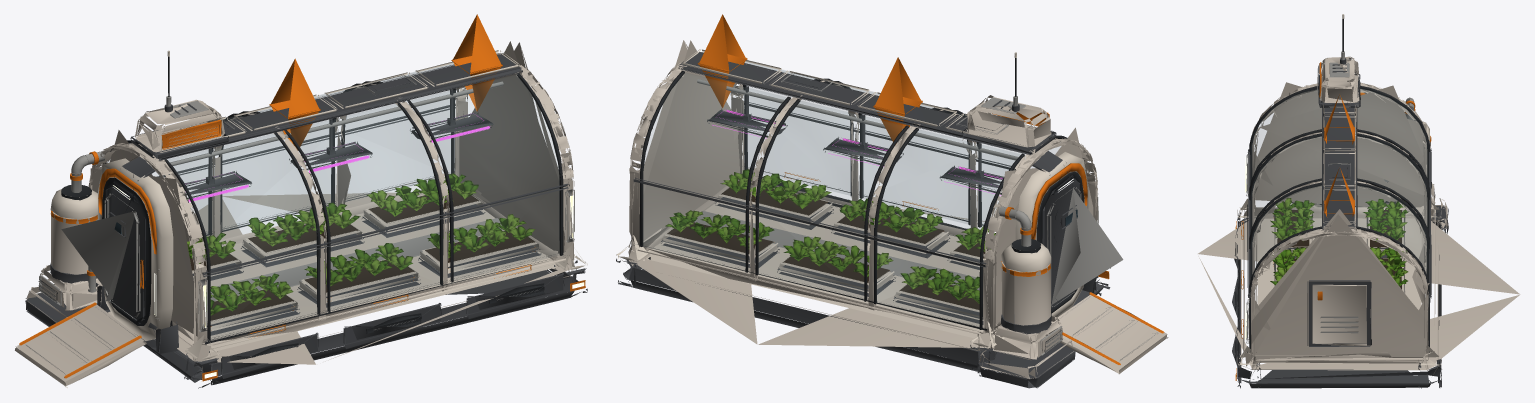
File: greenhouse.glb
The picture shows the model from 3 angles, left to right: view 1: azimuth 30°, elevation 25°; view 2: azimuth 150°, elevation 25°; view 3: azimuth 270°, elevation 25°; orthographic projection. The views are drawn at different scales.
Parts seen in each view (by area): view 1: greenhouse; view 2: greenhouse; view 3: greenhouse.
Part boxes in pixels (x1,y1,x2,y2): greenhouse: [15, 14, 587, 388]; greenhouse: [616, 14, 1168, 388]; greenhouse: [1198, 14, 1520, 388].
Size of the model in its own units: 13.95 by 7.8 by 9.74.
